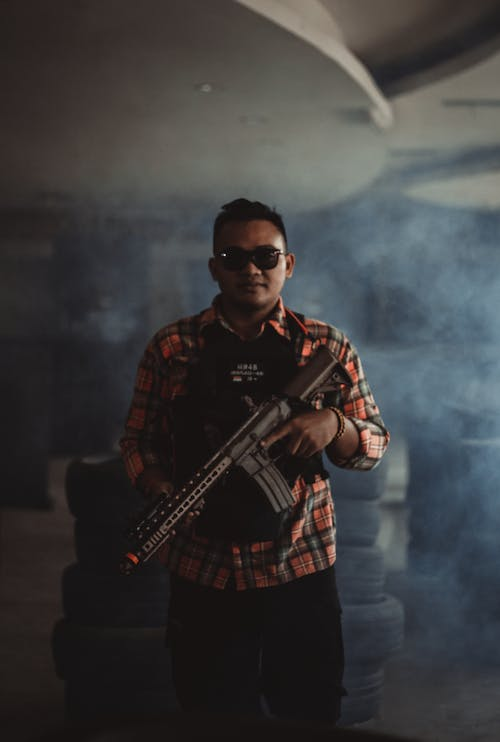gun: (113, 343, 341, 583)
